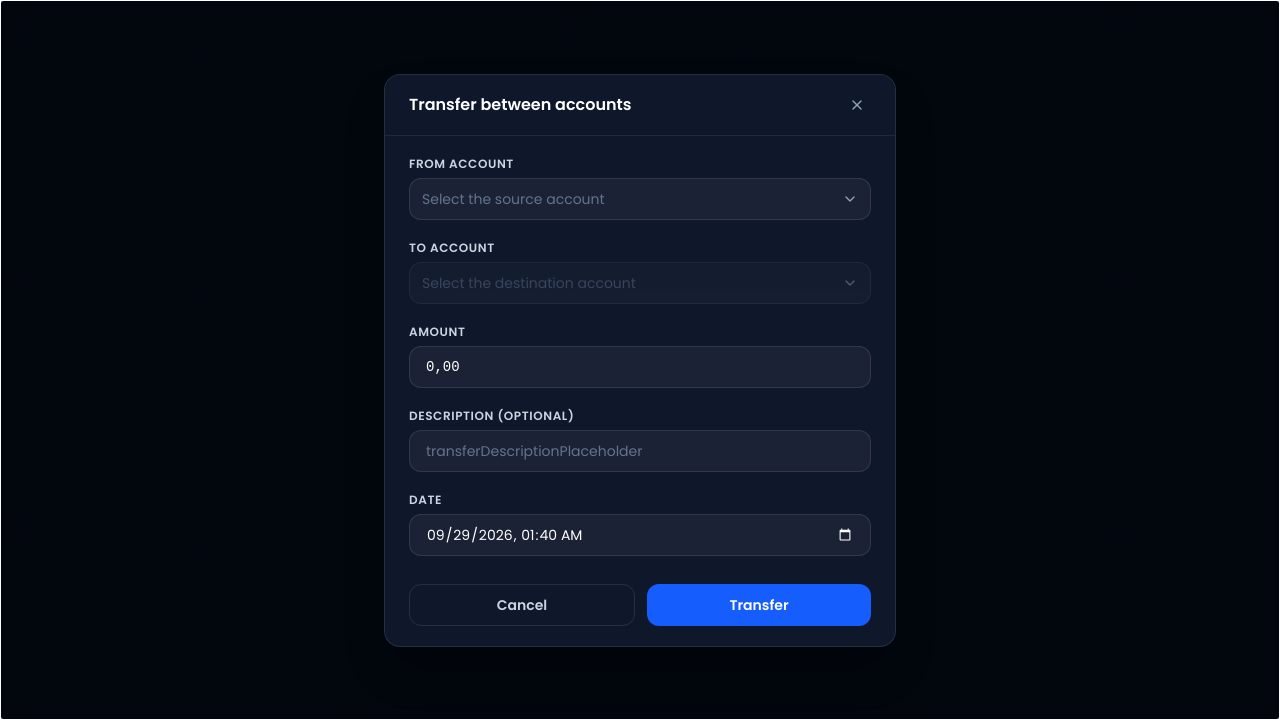
Scenario: TransferModal › should render source dropdown with all accounts and disable destination until source is picked
Expected: the dropdown named "To account" is disabled, [409,262,871,304]
Note: The source dropdown lists every account (including pockets) as sources
Click the dropdown named "From account". click: (513, 198)
box: [409,178,871,220]
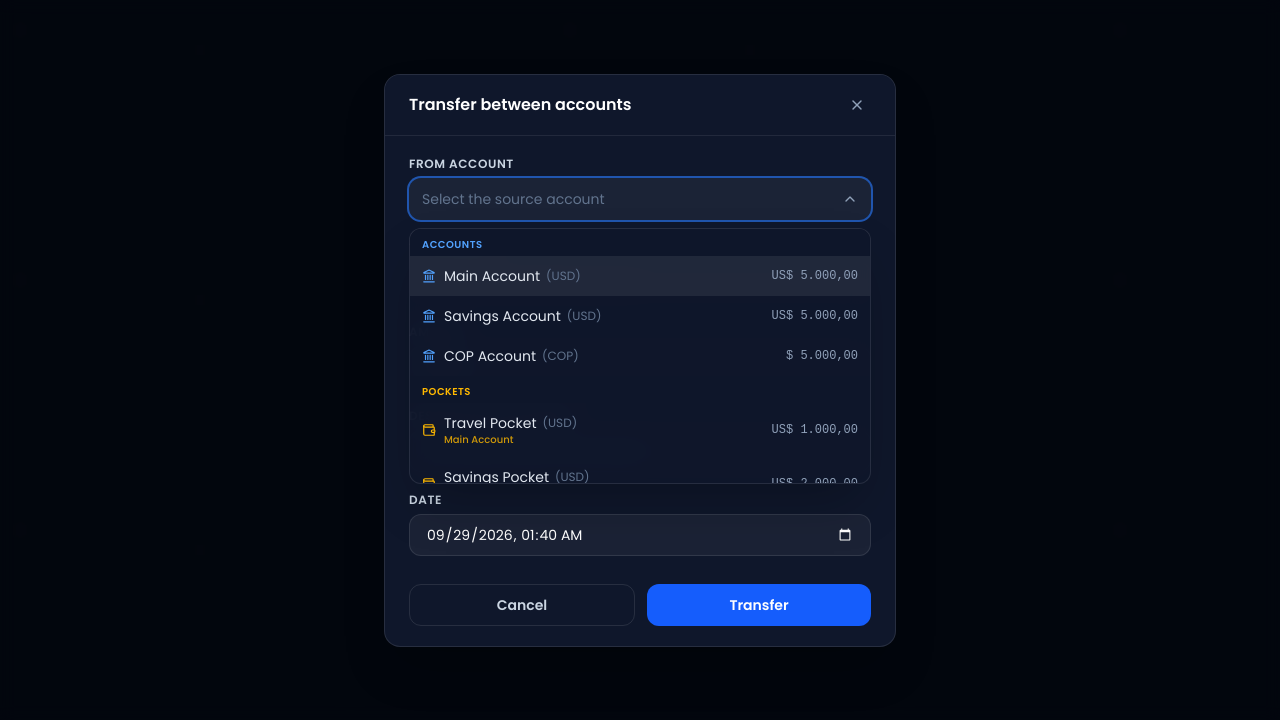
Expected: the option "Main Account (USD) US$ 5.000,00" is shown
Expected: the option "Savings Account (USD) US$ 5.000,00" is shown, [410,296,870,336]
Expected: the option "COP Account (COP) $ 5.000,00" is shown, [410,336,870,376]
Click the option "Main Account (USD) US$ 5.000,00". click: (492, 276)
box: [410,256,870,296]
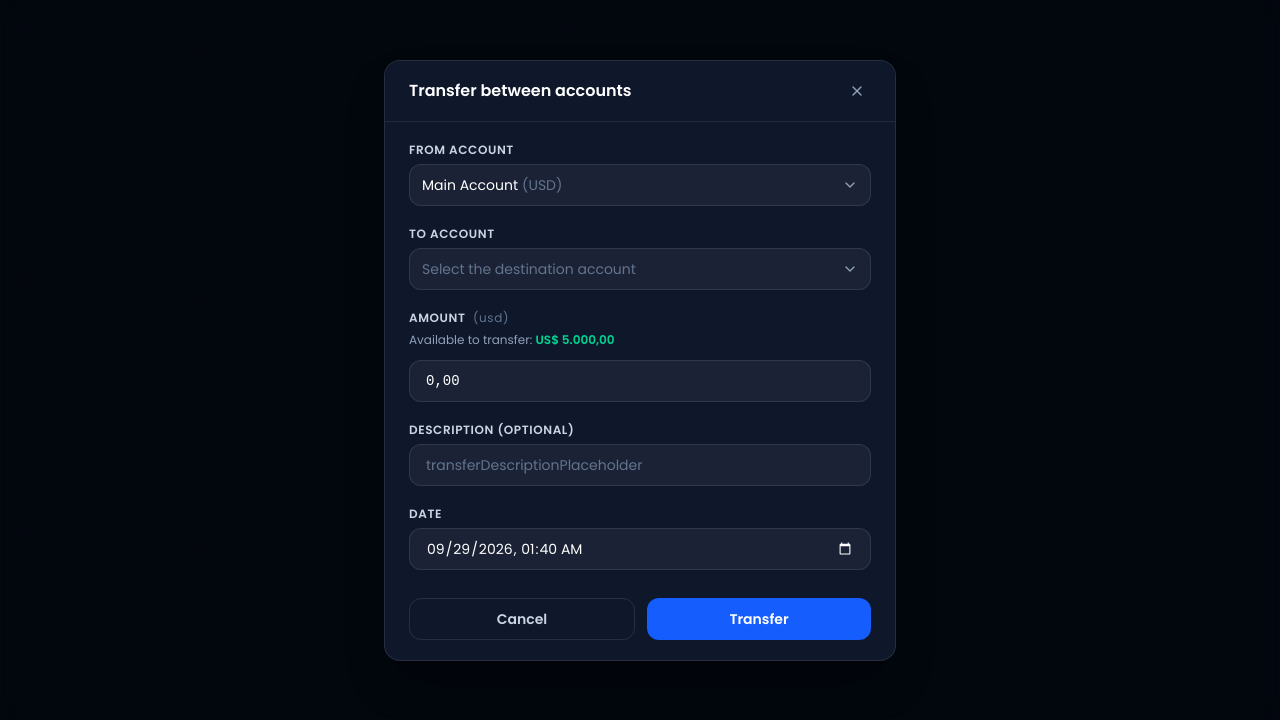
Expected: the dropdown named "To account" is enabled
Click the dropdown named "To account". click: (529, 268)
box: [409,248,871,290]
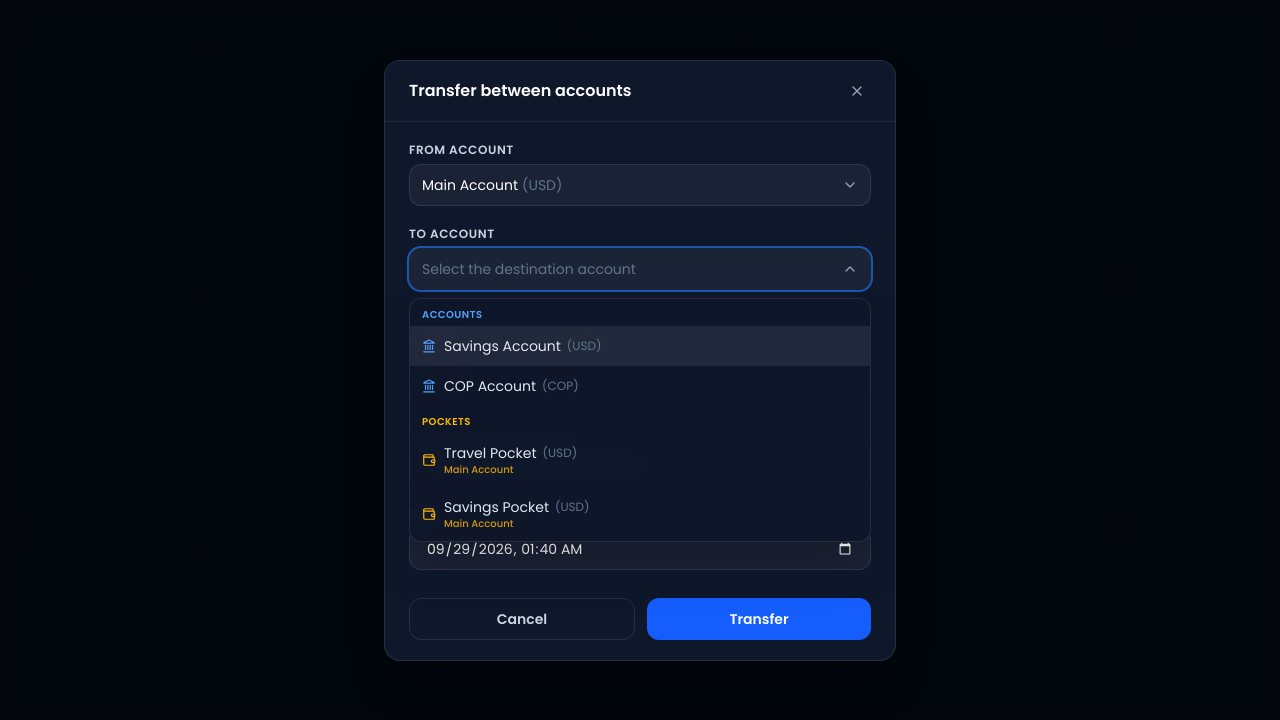
Expected: the option "Savings Account (USD)" is shown, [410,326,870,366]
Expected: the option "COP Account (COP)" is shown, [410,366,870,406]
Expected: the option "Travel Pocket (USD) Main Account" is shown, [410,432,870,487]
